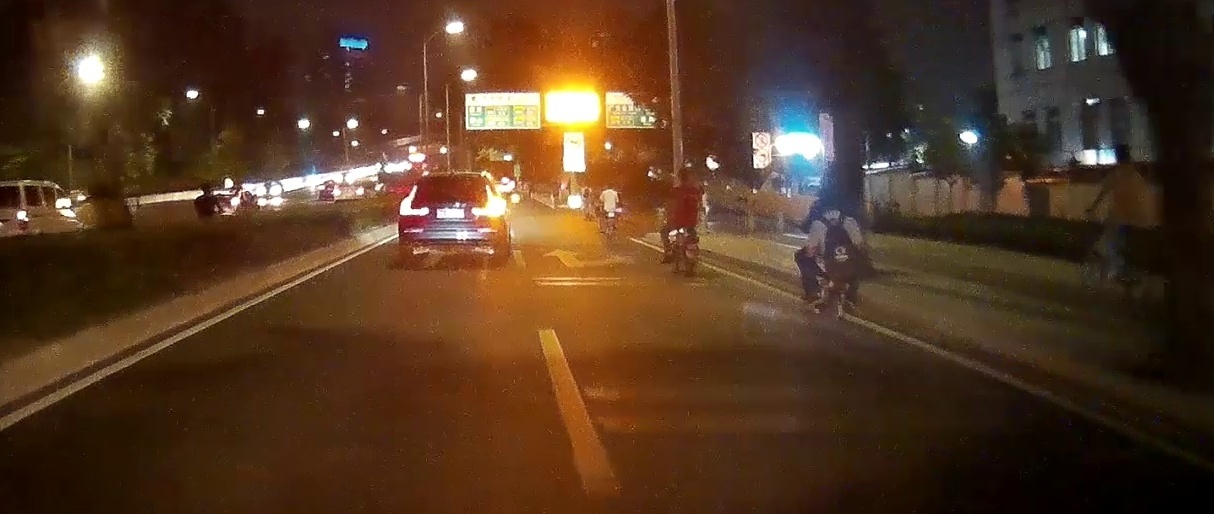L_light: (398, 185, 431, 216)
R_light: (471, 183, 503, 216)
T_light: (443, 178, 461, 182)
night-right: (395, 170, 509, 267)
